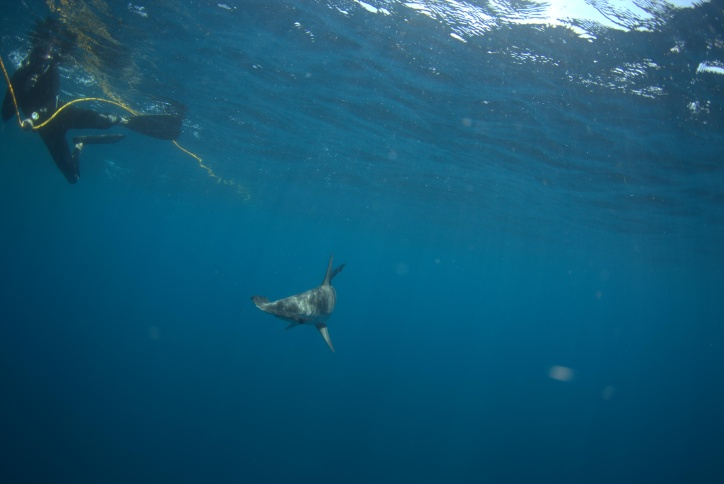Hammer: (237, 250, 374, 370)
